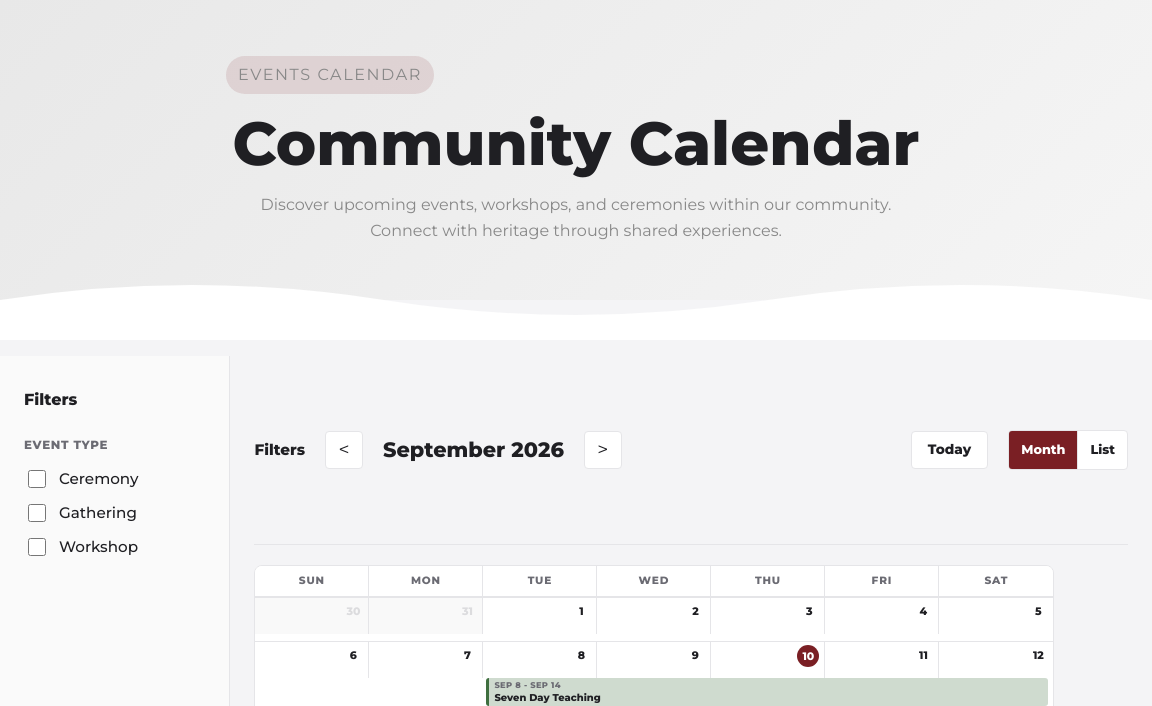
Scenario: EventCalendarPage › switches to the list view
This screenshot has width=1152, height=706.
Click the button "List": (1103, 450) [1078,431,1127,469]
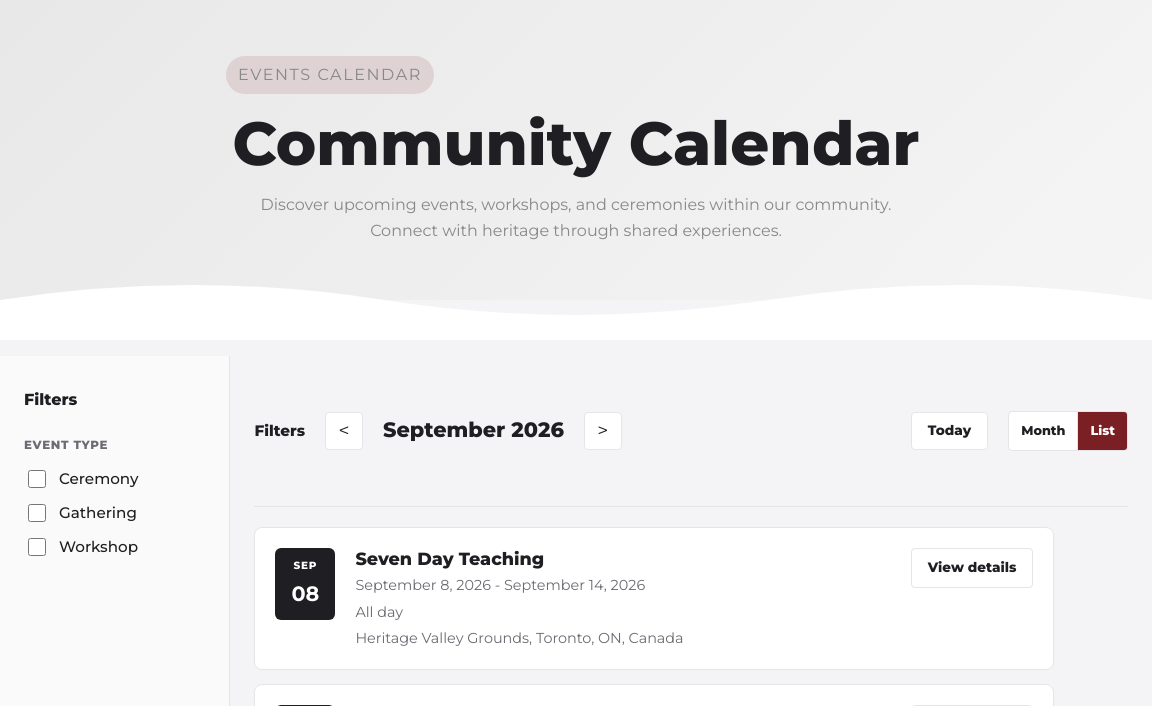
Click the button "Month": (1044, 431) [1009,412,1078,450]
(page scrolled)
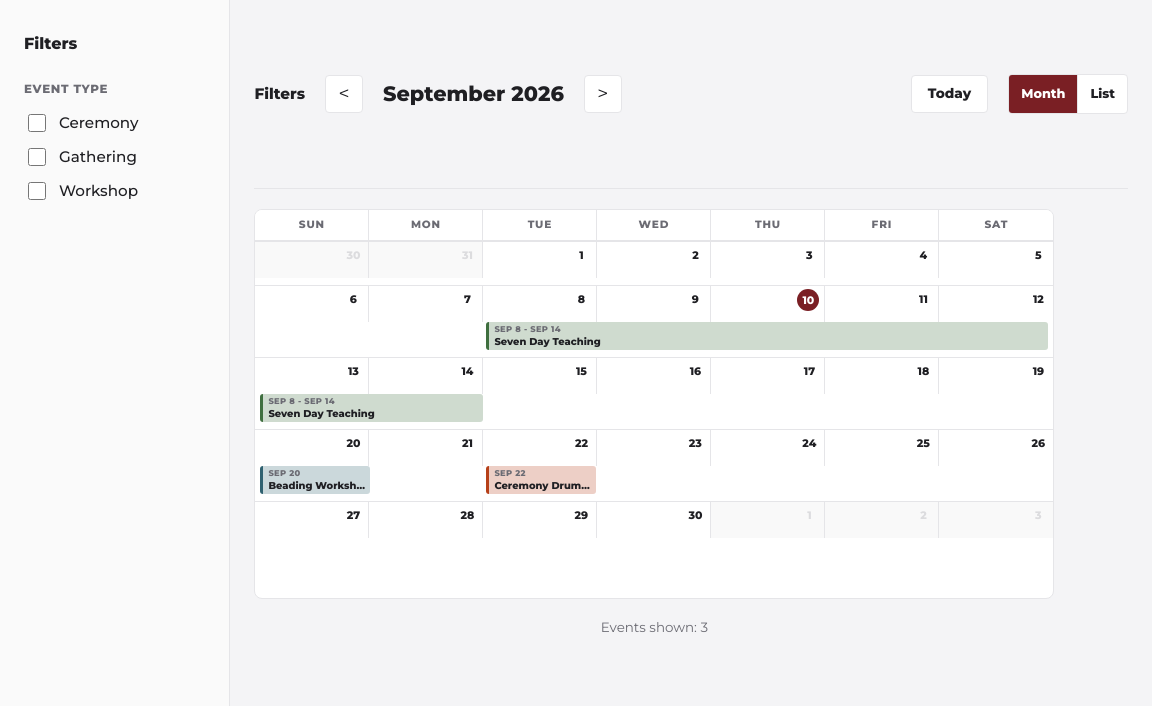
Check: the text "Events shown: 3" is shown, box [601,619,708,635]
